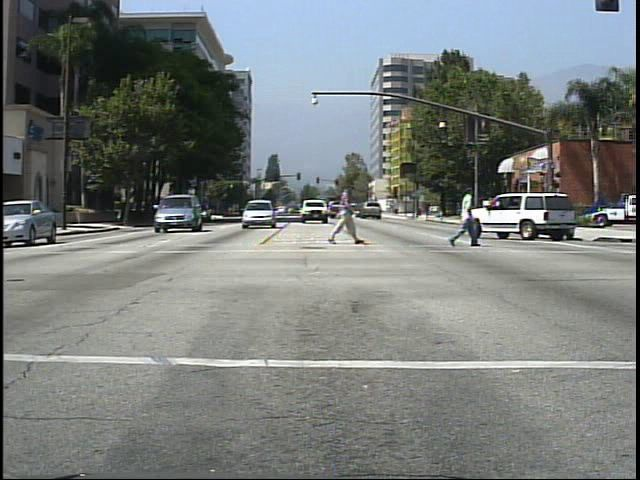person: (449, 178, 486, 254), (324, 176, 361, 250)
